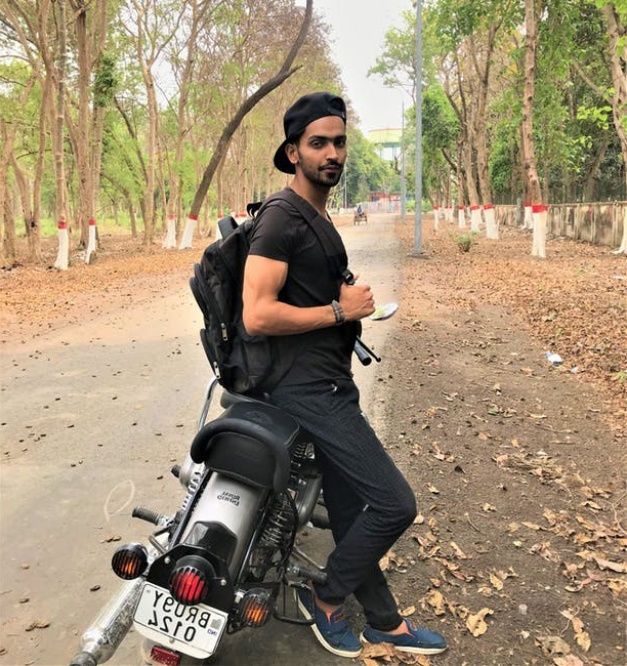face: (300, 116, 347, 186)
